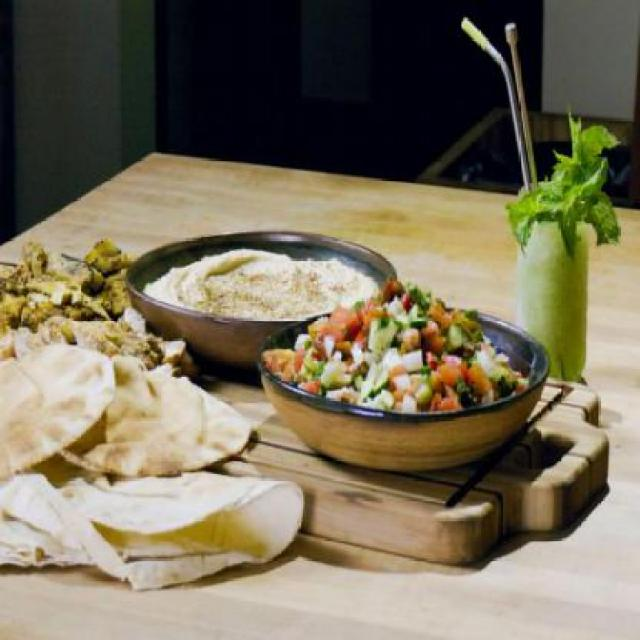greek salad: (280, 282, 526, 432)
hummus: (152, 232, 362, 314)
